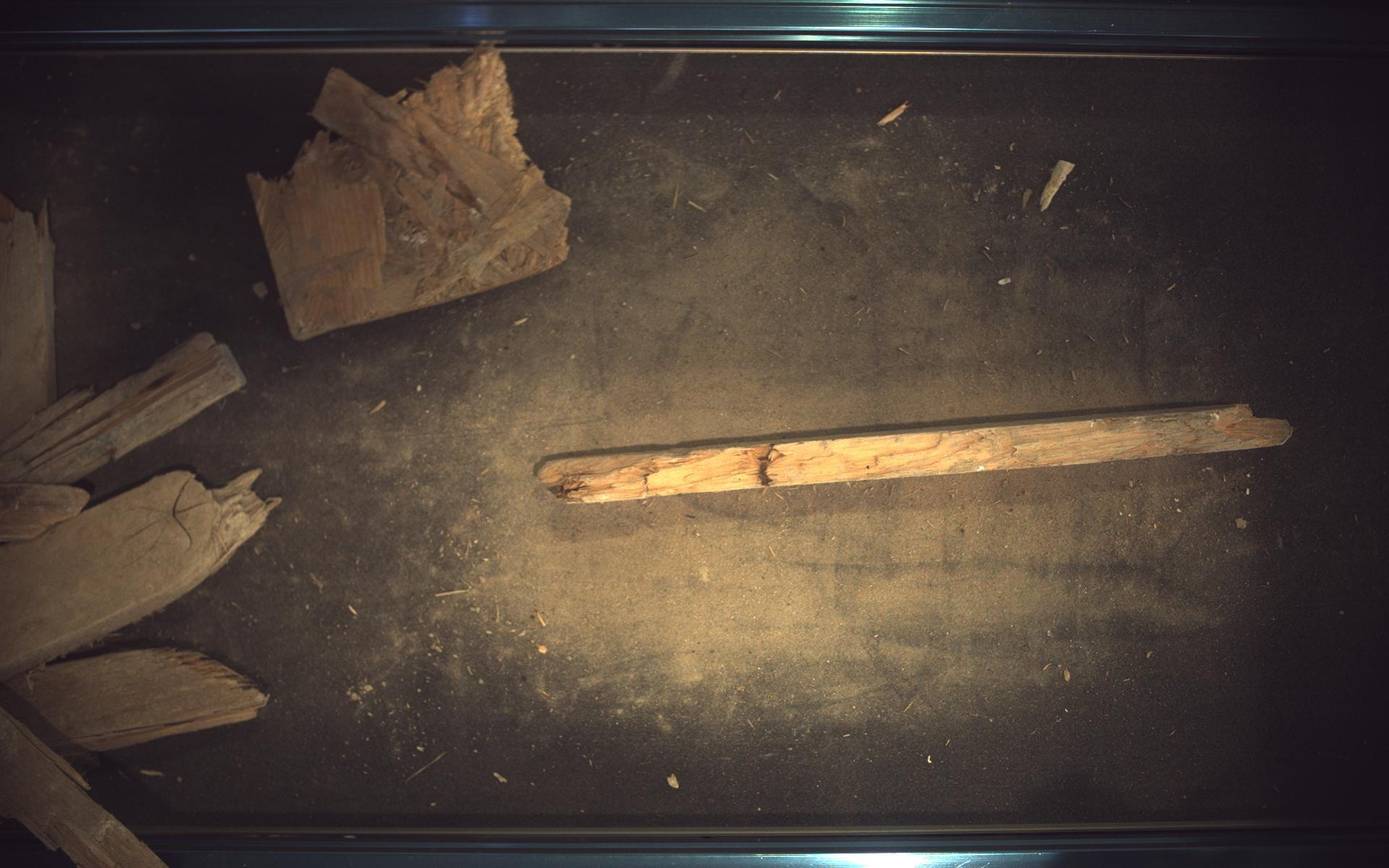wood: (538, 404, 1296, 503)
